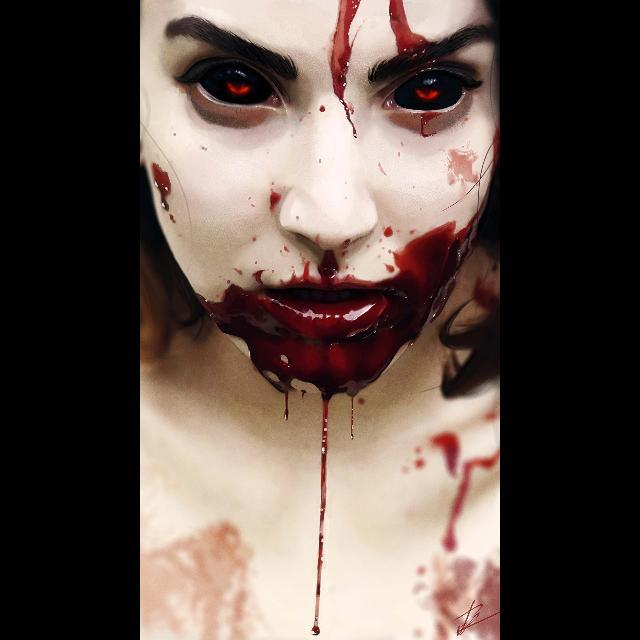blood: (182, 146, 491, 640), (400, 395, 500, 554), (414, 550, 500, 640), (141, 133, 190, 236), (329, 0, 360, 137), (389, 0, 429, 52), (421, 112, 441, 136), (269, 188, 281, 212)
